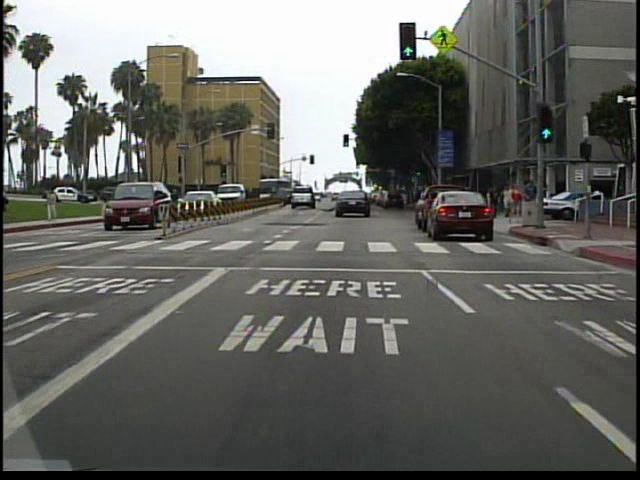person: (523, 177, 540, 221), (47, 185, 65, 223), (506, 184, 522, 225)
